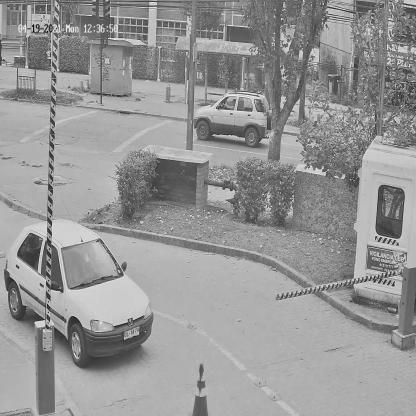Patente: (124, 326, 140, 342)
